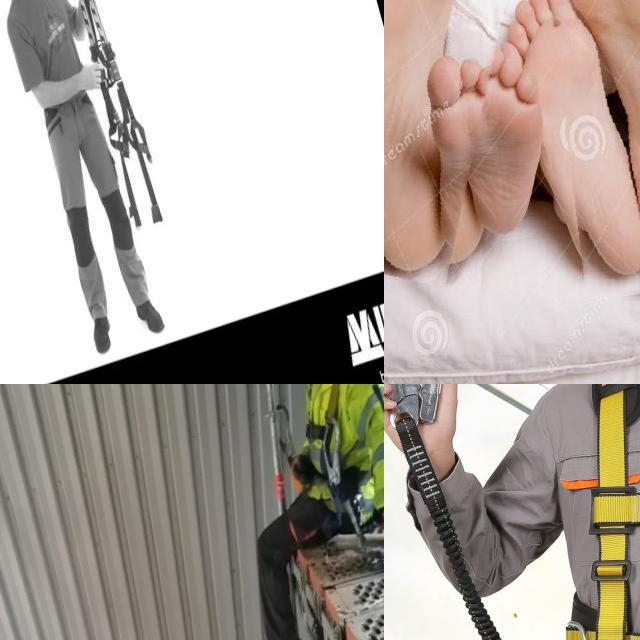Barefoots: (498, 0, 640, 297), (384, 0, 462, 283)
Harness: (560, 384, 640, 640), (80, 0, 164, 226), (384, 384, 460, 451), (321, 384, 350, 518)
